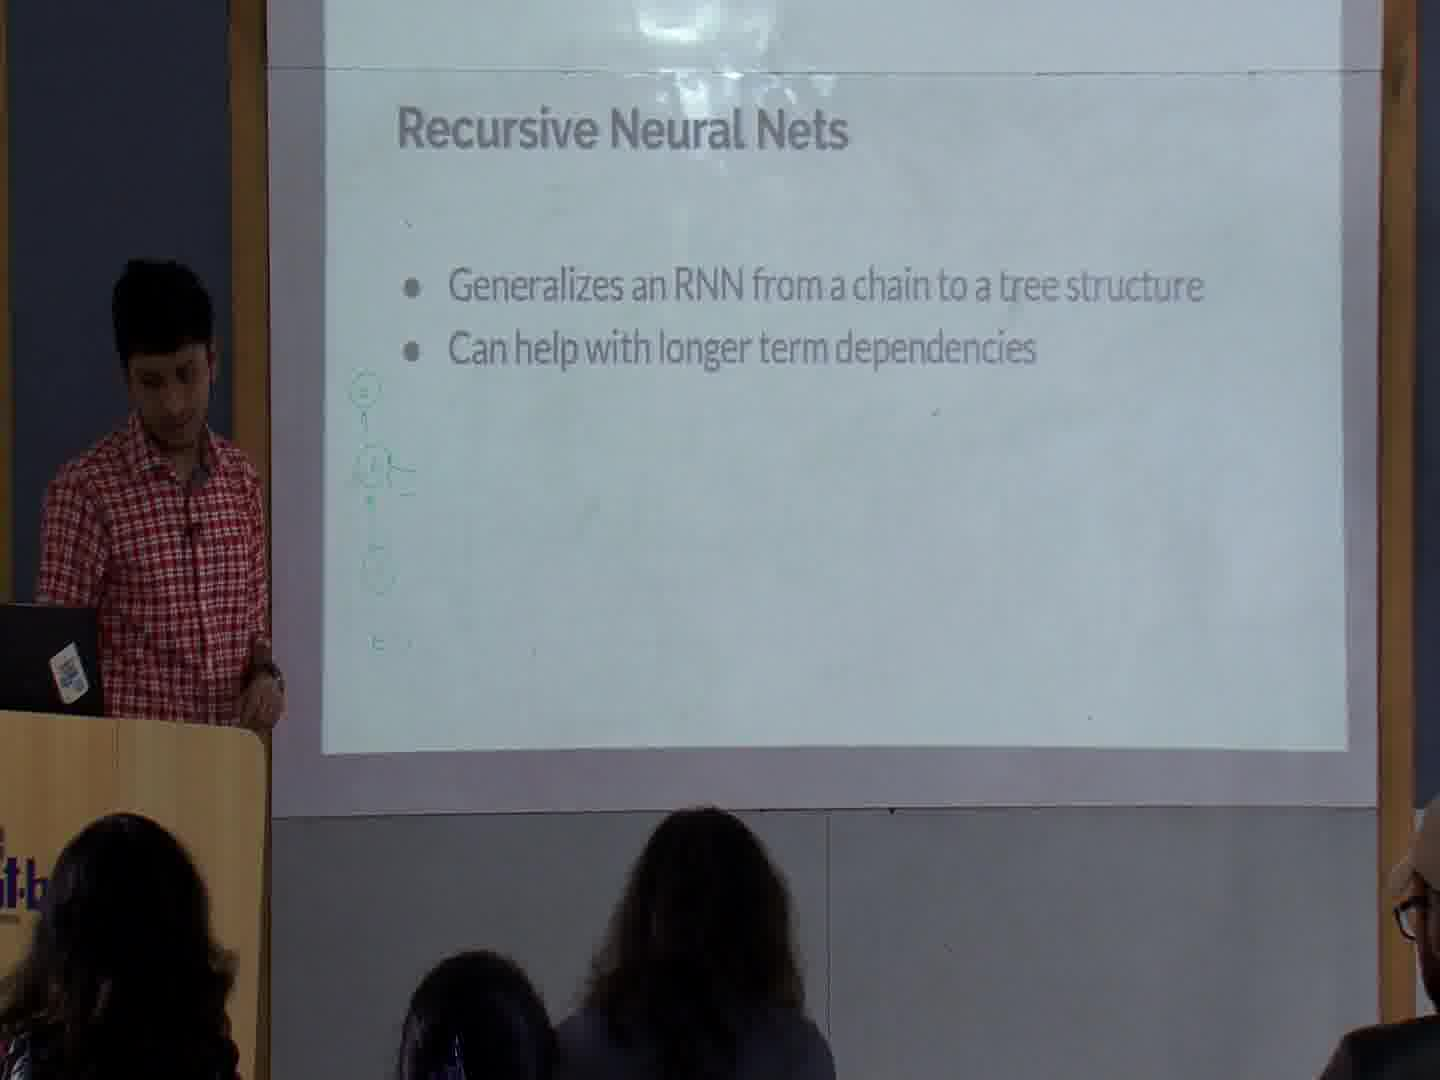slide: (323, 2, 1346, 751)
